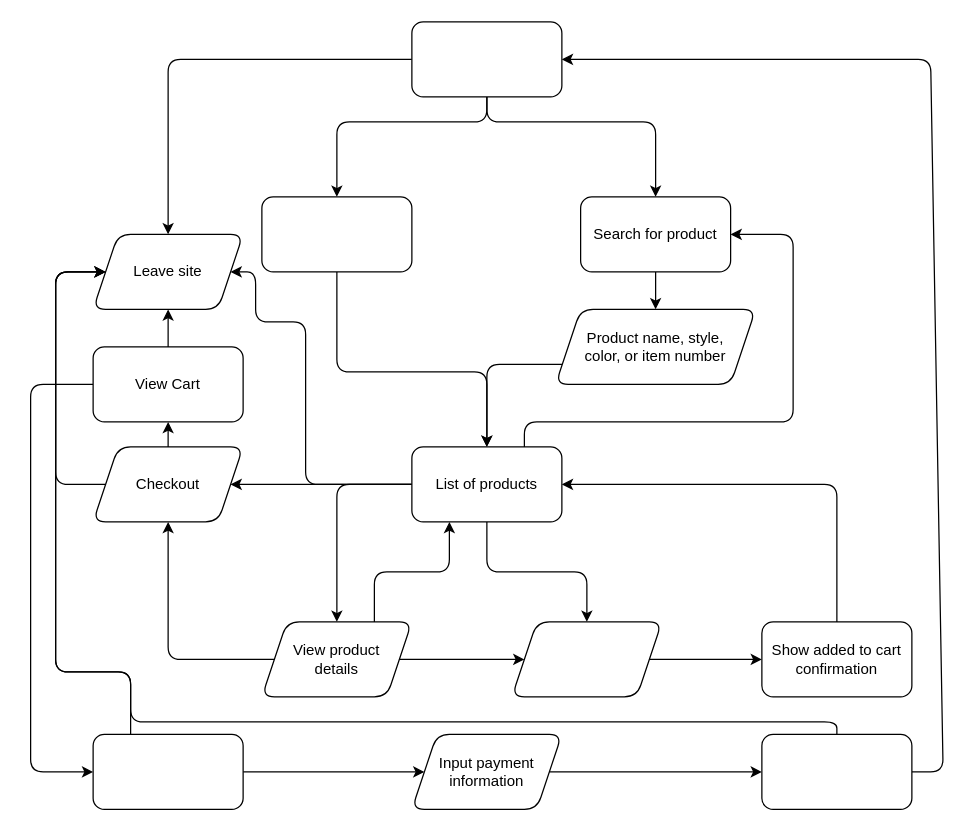
The diagram is 975 pixels wide and 831 high, and some of its shapes have lost their labels. Each missing label, with the centre of its shape:
Add to cart: pixel 586 659
Browse items on homepage: pixel 336 234
Order confirmation and email: pixel 836 771
User enters website (Homepage): pixel 486 59
View Payment: pixel 167 771
